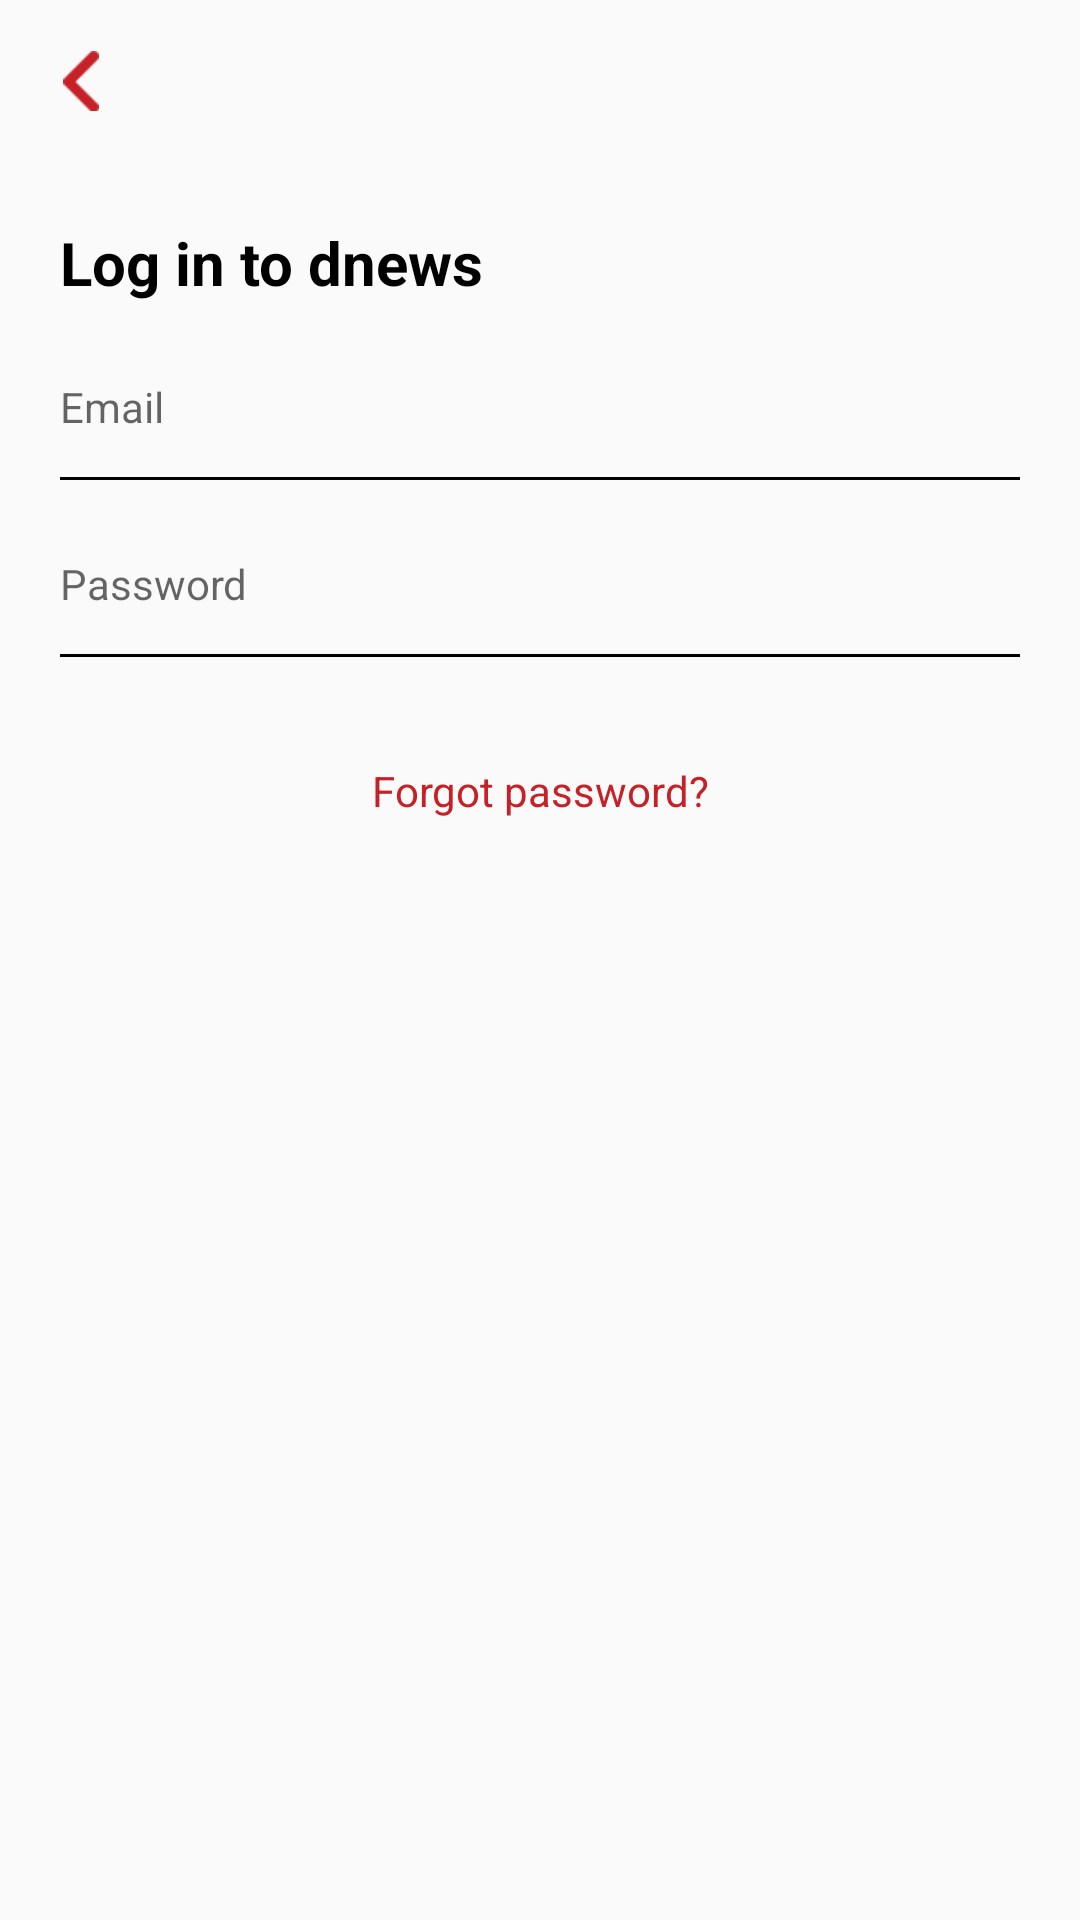

Point at icon controls on the screen. Image size 1080*1920, points as point (x, y).
back: point (81, 81)
